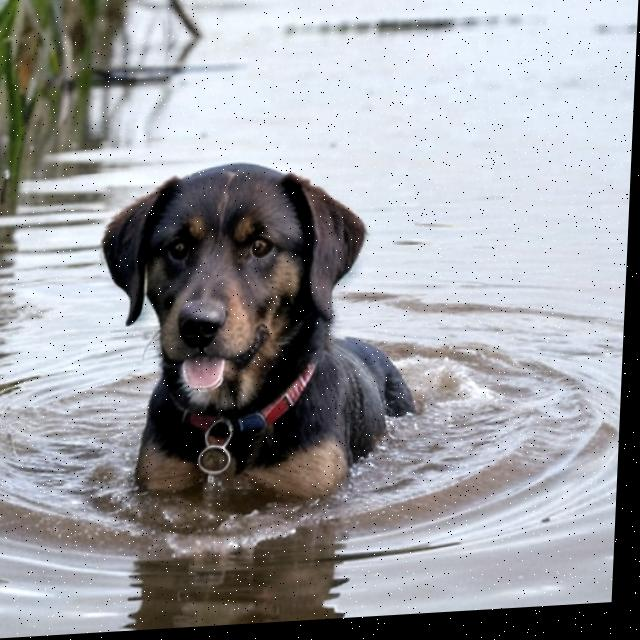dog: (65, 135, 453, 545)
